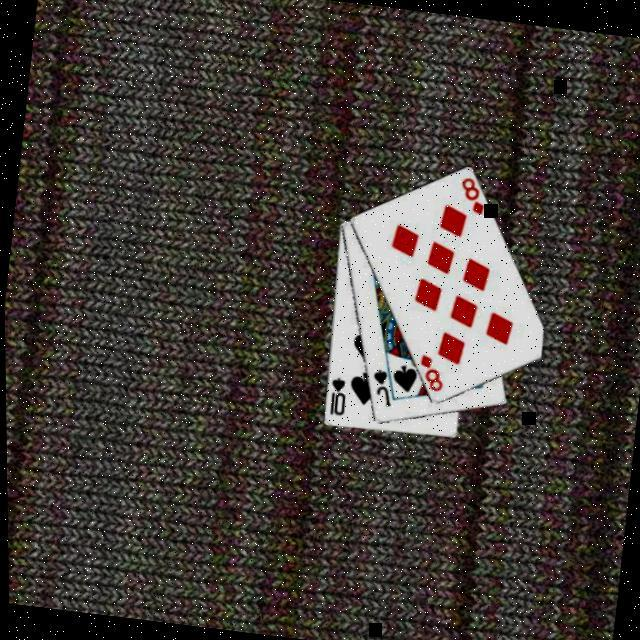10S: (322, 372, 348, 418)
8D: (411, 348, 447, 394), (453, 172, 489, 215)
JS: (364, 364, 396, 407)
